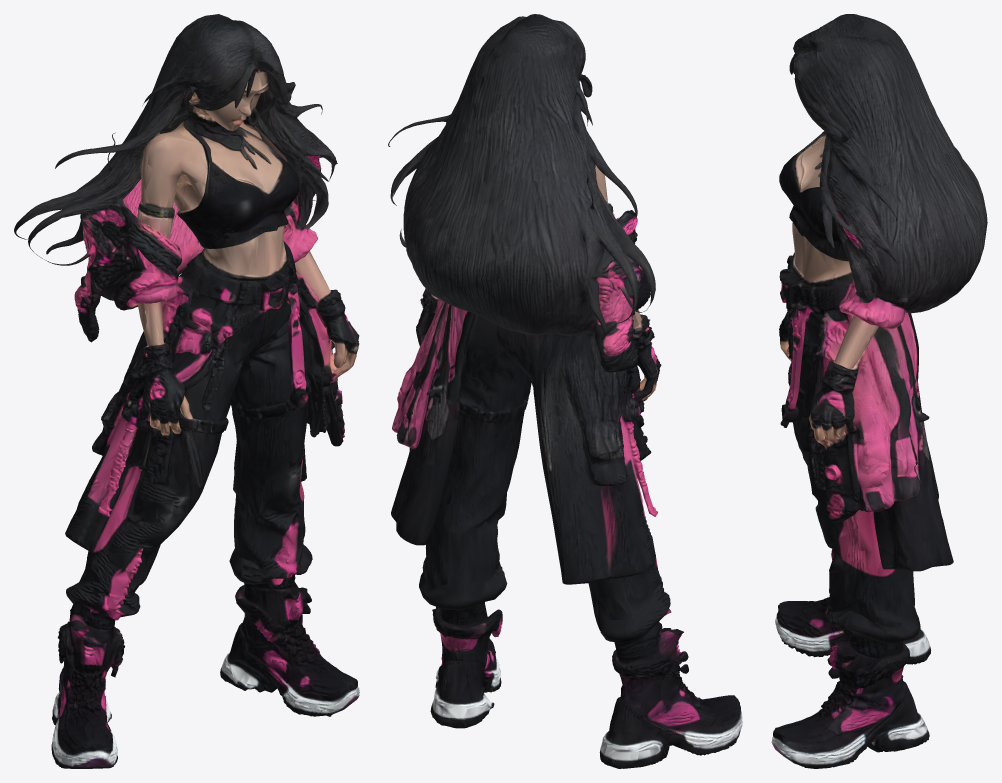
The model's file is mira.glb.
3 renders of one model, left to right at view 1: azimuth 30°, elevation 25°; view 2: azimuth 150°, elevation 25°; view 3: azimuth 270°, elevation 25°, orthographic.
Parts seen in each view (by area): view 1: model; view 2: model; view 3: model.
Boxes of the visible parts, left/top/right/bottom form: model: left=14, top=14, right=359, bottom=768; model: left=388, top=14, right=742, bottom=768; model: left=771, top=14, right=987, bottom=768.
Bounding box in the file's own units: 0.8836 × 1.9 × 0.5317.
Materials: 1 (1 with a texture image).
